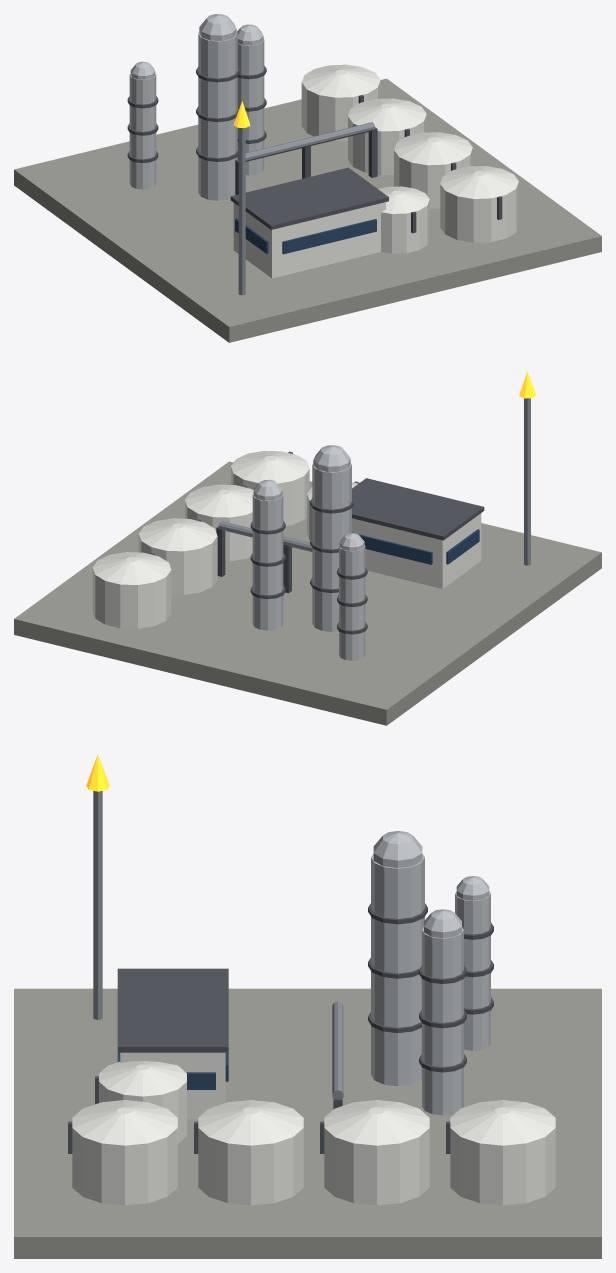
Rendered from oil_income_3.glb.
The picture shows the model from 3 angles, top to bottom: view 1: azimuth 30°, elevation 25°; view 2: azimuth 150°, elevation 25°; view 3: azimuth 270°, elevation 25°; orthographic projection. The views are drawn at different scales.
Visible parts, largest first — view 1: oil_income_3; view 2: oil_income_3; view 3: oil_income_3.
Part boxes in pixels (left/top/right/bottom): oil_income_3: left=14, top=14, right=601, bottom=342; oil_income_3: left=14, top=371, right=601, bottom=725; oil_income_3: left=14, top=755, right=601, bottom=1258.
Bounding box in the file's own units: 1.96 × 1.05 × 1.96.
